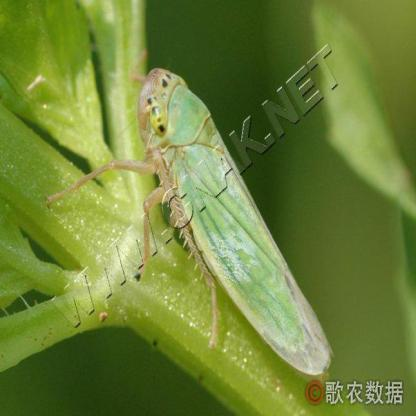Green-Leafhopper: (48, 62, 334, 378)
